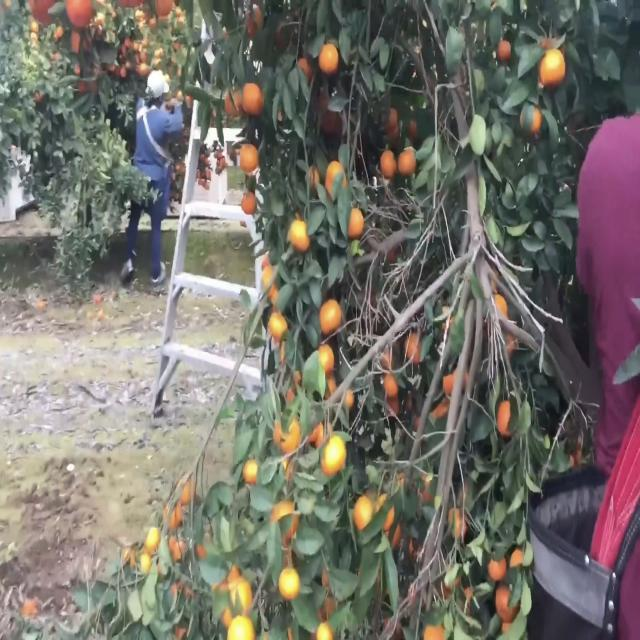Jeruk Sudah Matang: (536, 43, 568, 89), (288, 217, 317, 260), (276, 560, 304, 602), (321, 158, 346, 201), (494, 397, 517, 438), (316, 298, 342, 332), (493, 580, 517, 616), (396, 144, 422, 177), (520, 102, 544, 136), (355, 490, 374, 532), (488, 543, 508, 582), (318, 42, 339, 79), (243, 81, 264, 118), (348, 201, 366, 240), (268, 313, 289, 345), (240, 141, 261, 172), (378, 147, 396, 182), (494, 36, 514, 62), (382, 372, 400, 397)
